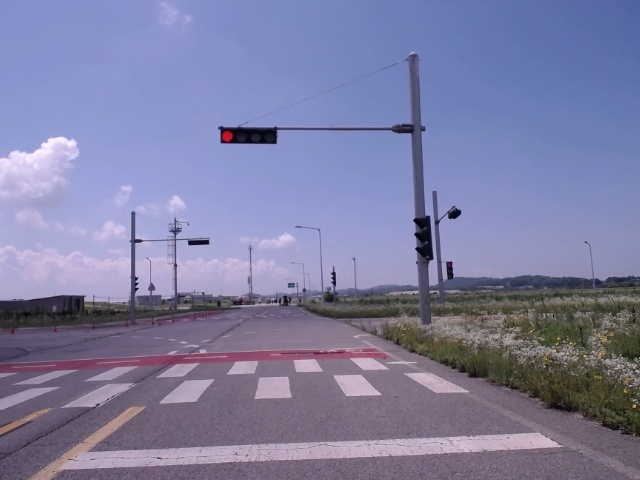red_4: (220, 127, 278, 144)
